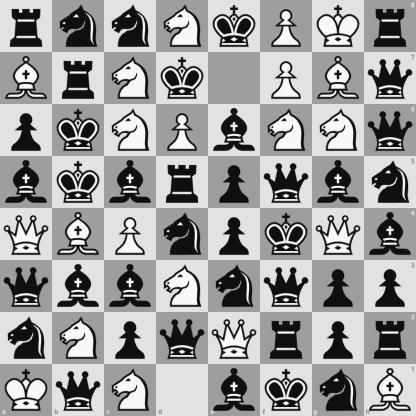B: (364, 364, 416, 416), (1, 53, 52, 104), (53, 209, 104, 260), (313, 53, 364, 104)
K: (0, 364, 52, 416), (313, 1, 364, 52)
N: (104, 364, 156, 416), (53, 313, 104, 364), (105, 53, 156, 104), (105, 105, 156, 156), (157, 1, 208, 52), (157, 261, 208, 312), (261, 105, 312, 156), (313, 105, 364, 156)
P: (105, 209, 156, 260), (157, 105, 208, 156), (261, 1, 312, 52), (261, 53, 312, 104)
Q: (1, 209, 52, 260), (209, 313, 260, 364), (313, 209, 364, 260)
b: (209, 364, 260, 416), (364, 209, 416, 260), (1, 157, 52, 208), (53, 261, 104, 312), (105, 157, 156, 208), (105, 261, 156, 312), (209, 105, 260, 156), (313, 157, 364, 208)
board: (0, 0, 415, 415)
k: (260, 364, 312, 416), (53, 105, 104, 156), (53, 157, 104, 208), (157, 53, 208, 104), (209, 1, 260, 52), (261, 209, 312, 260)
n: (364, 156, 416, 209), (312, 364, 364, 416), (1, 313, 52, 364), (53, 1, 104, 52), (105, 1, 156, 52), (157, 209, 208, 260), (209, 261, 260, 312)
p: (364, 260, 416, 312), (1, 105, 52, 156), (105, 313, 156, 364), (209, 157, 260, 208), (209, 209, 260, 260), (313, 261, 364, 312), (313, 313, 364, 364)
q: (52, 364, 104, 416), (364, 52, 416, 104), (364, 104, 416, 156), (1, 261, 52, 312), (157, 313, 208, 364), (261, 157, 312, 208), (261, 261, 312, 312)
r: (364, 0, 416, 52), (364, 312, 416, 364), (1, 1, 52, 52), (53, 53, 104, 104), (157, 157, 208, 208), (261, 313, 312, 364)
